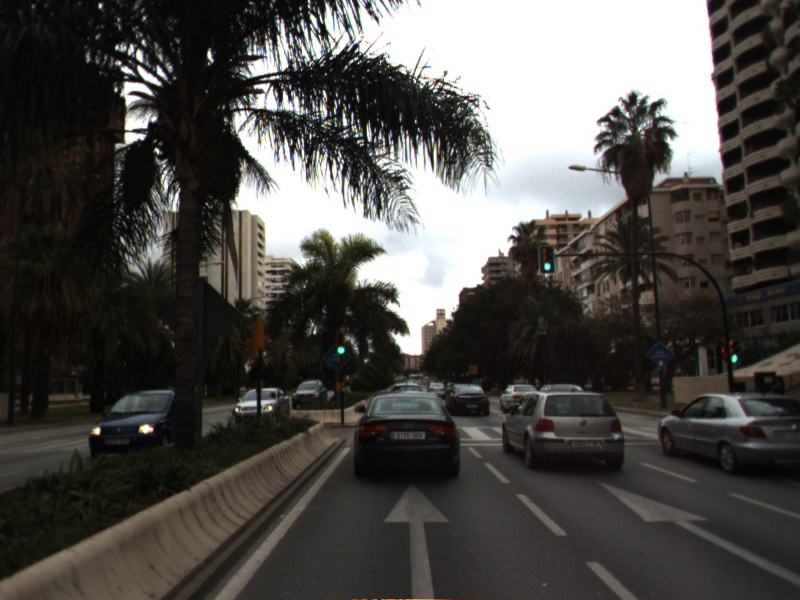STRAIGHT: (593, 477, 800, 585), (380, 479, 455, 600)
